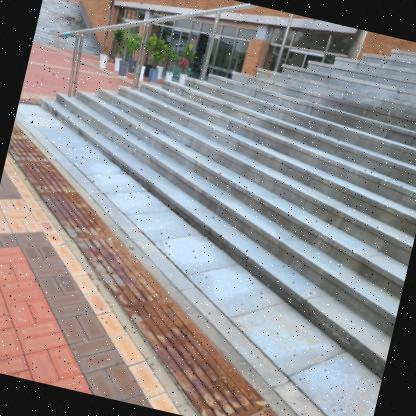stair: (67, 0, 416, 385)
